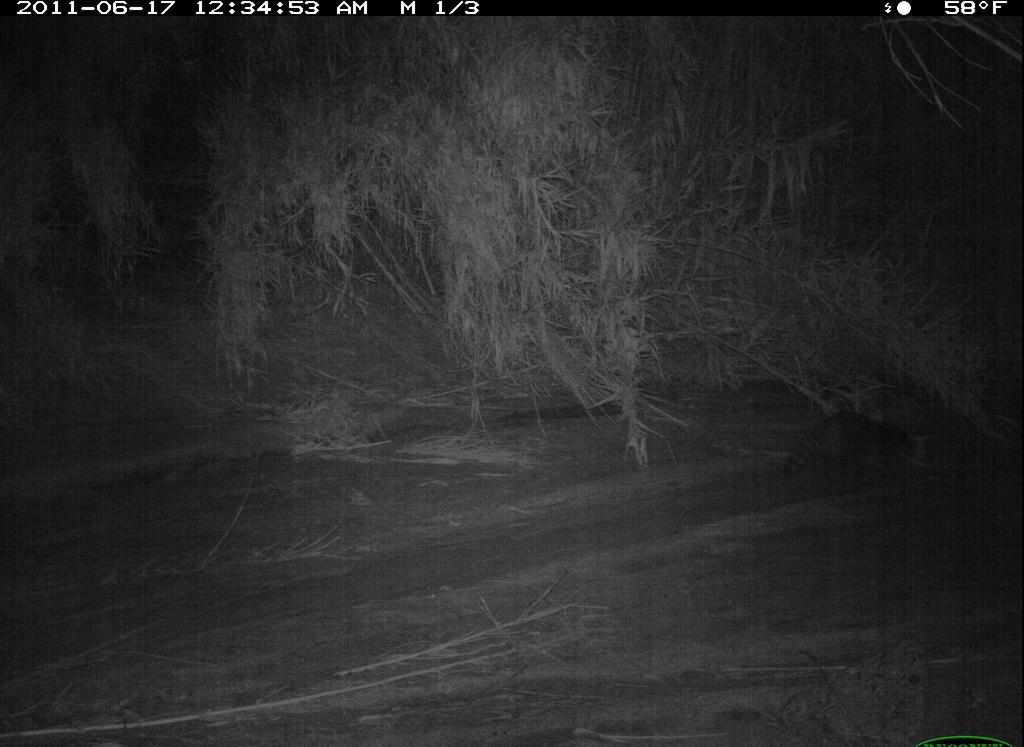raccoon: (779, 378, 934, 519)
